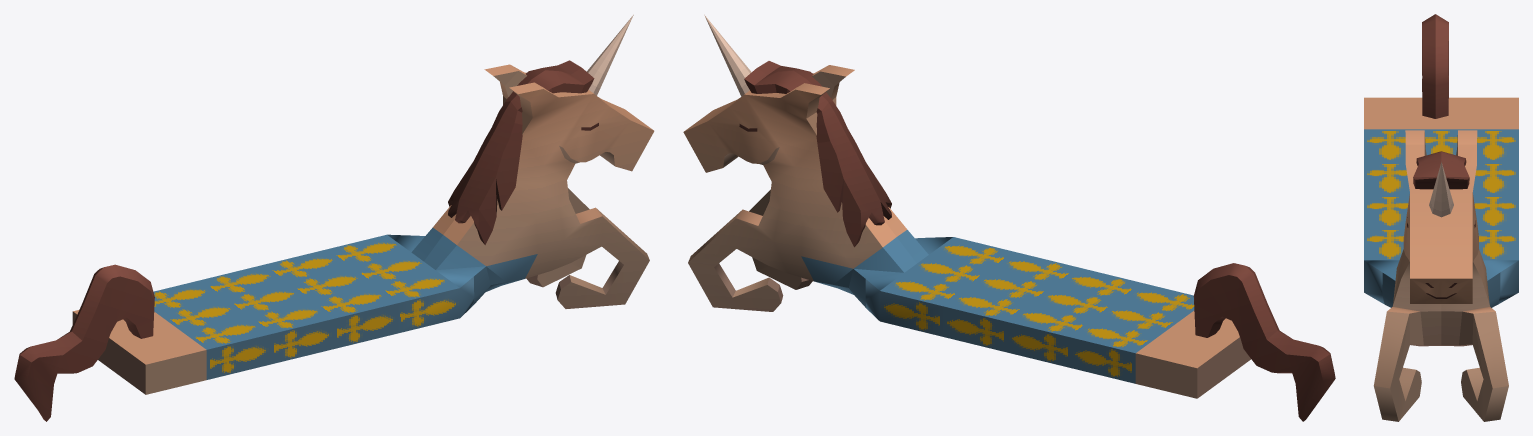
Rendered from Prague.glb.
3 renders of one model, left to right at view 1: azimuth 30°, elevation 25°; view 2: azimuth 150°, elevation 25°; view 3: azimuth 270°, elevation 25°, orthographic. The views are drawn at different scales.
Visible parts, largest first — view 1: Prague; view 2: Prague; view 3: Prague.
Boxes of the visible parts, x1,y1,x2,y2 form: Prague: [14, 14, 654, 421]; Prague: [683, 14, 1335, 421]; Prague: [1364, 14, 1518, 421].
Bounding box in the file's own units: 13.23 × 5.25 × 2.66.
Materials: 1 (1 with a texture image).
